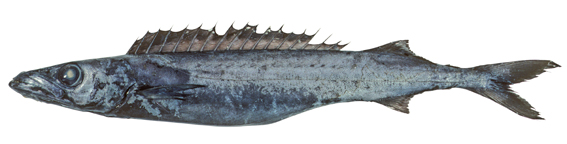fish: (8, 23, 563, 128)
